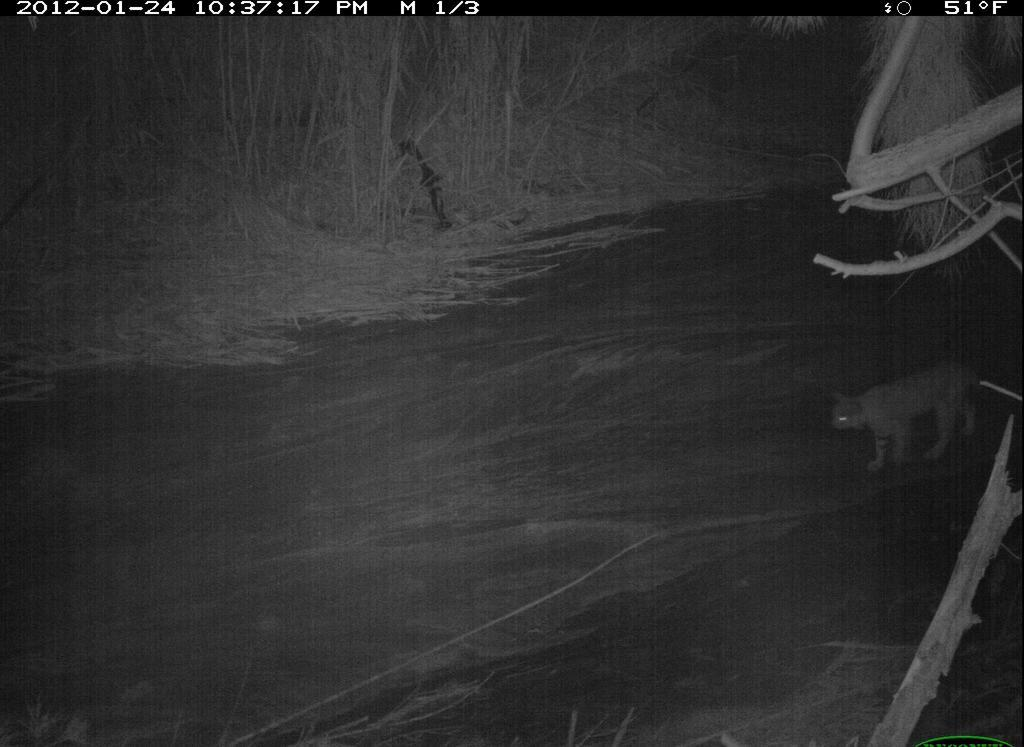bobcat: (817, 363, 994, 477)
